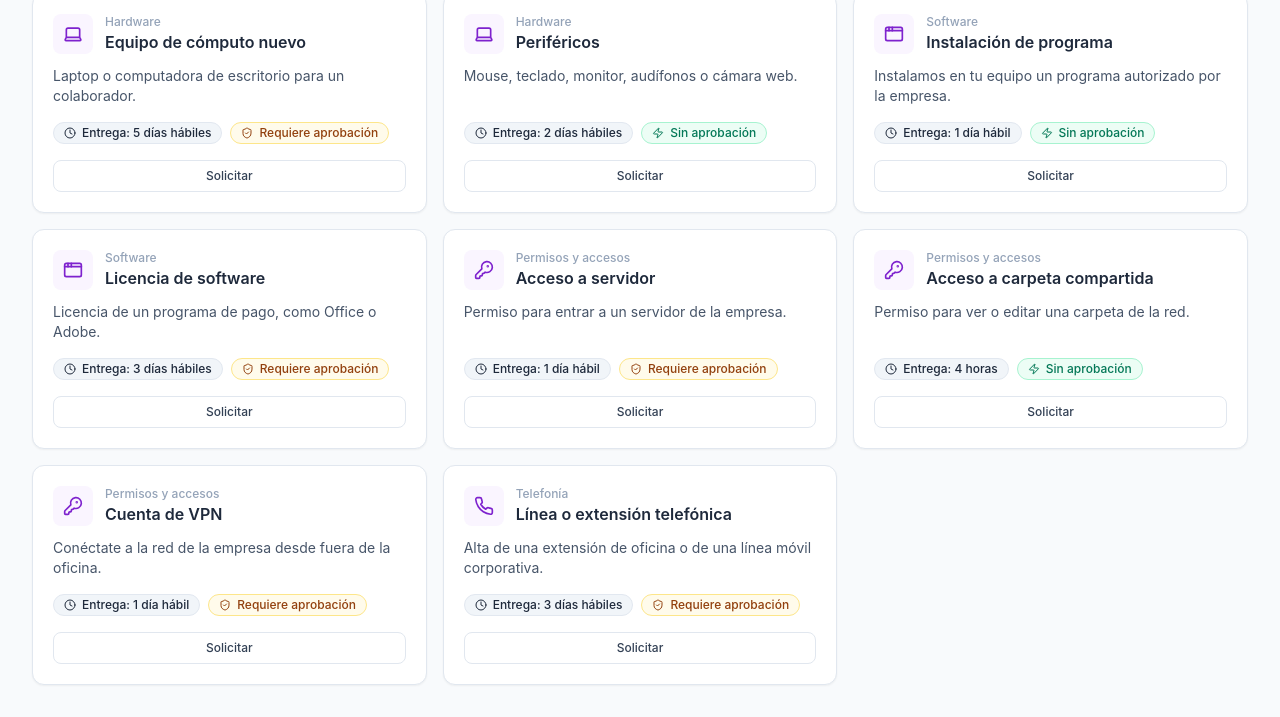
RequestsPage › no envía el formulario si faltan campos obligatorios
(page scrolled)
Click the button with aria-label "Solicitar Acceso a servidor" at (640, 412), box [464,396,816,428]
(page scrolled)
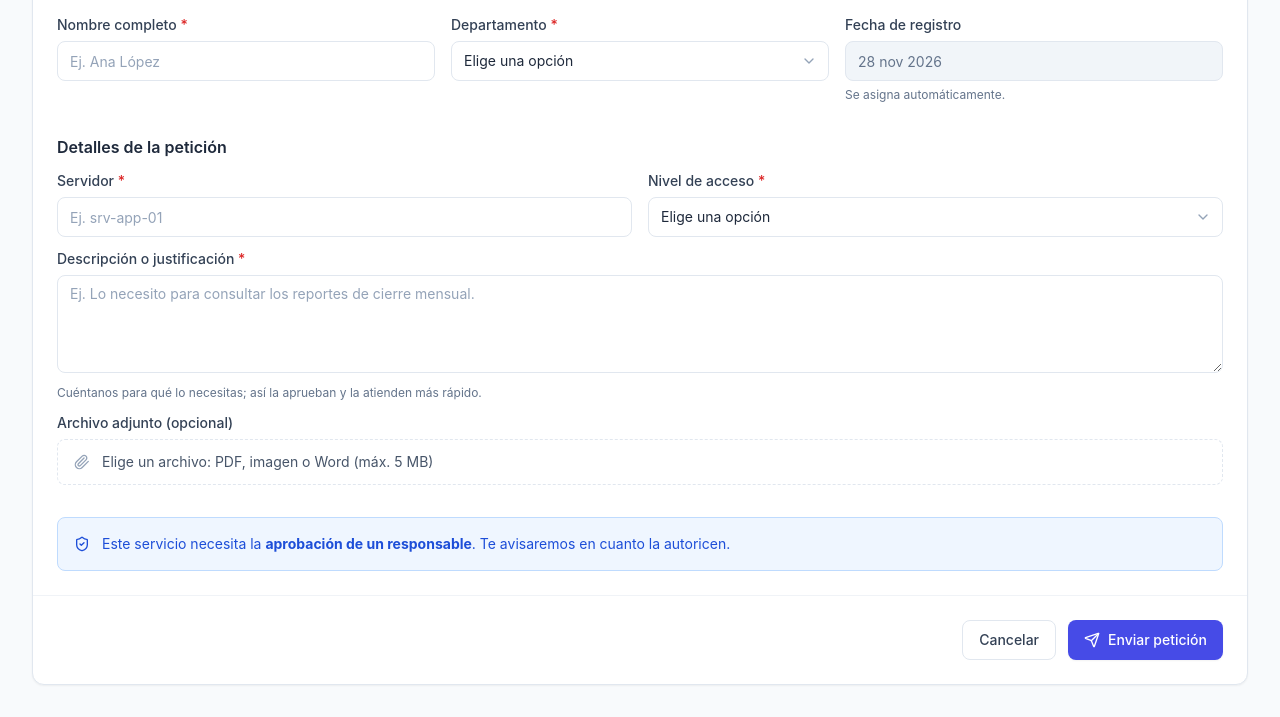
Click the button "Enviar petición" at (1146, 640), box [1068,620,1223,660]
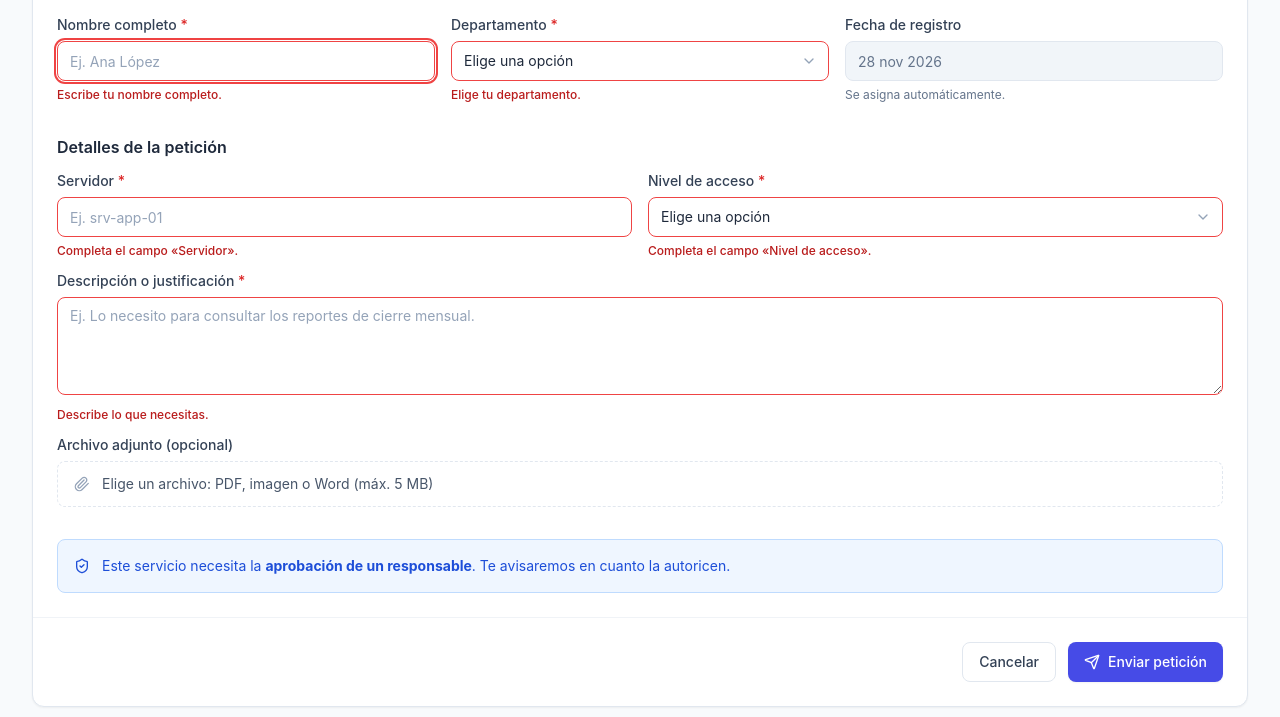
Check: the text "Escribe tu nombre completo." is shown, box [57,87,222,102]
Check: the text "Completa el campo «Servidor»." is shown, box [57,243,238,258]
